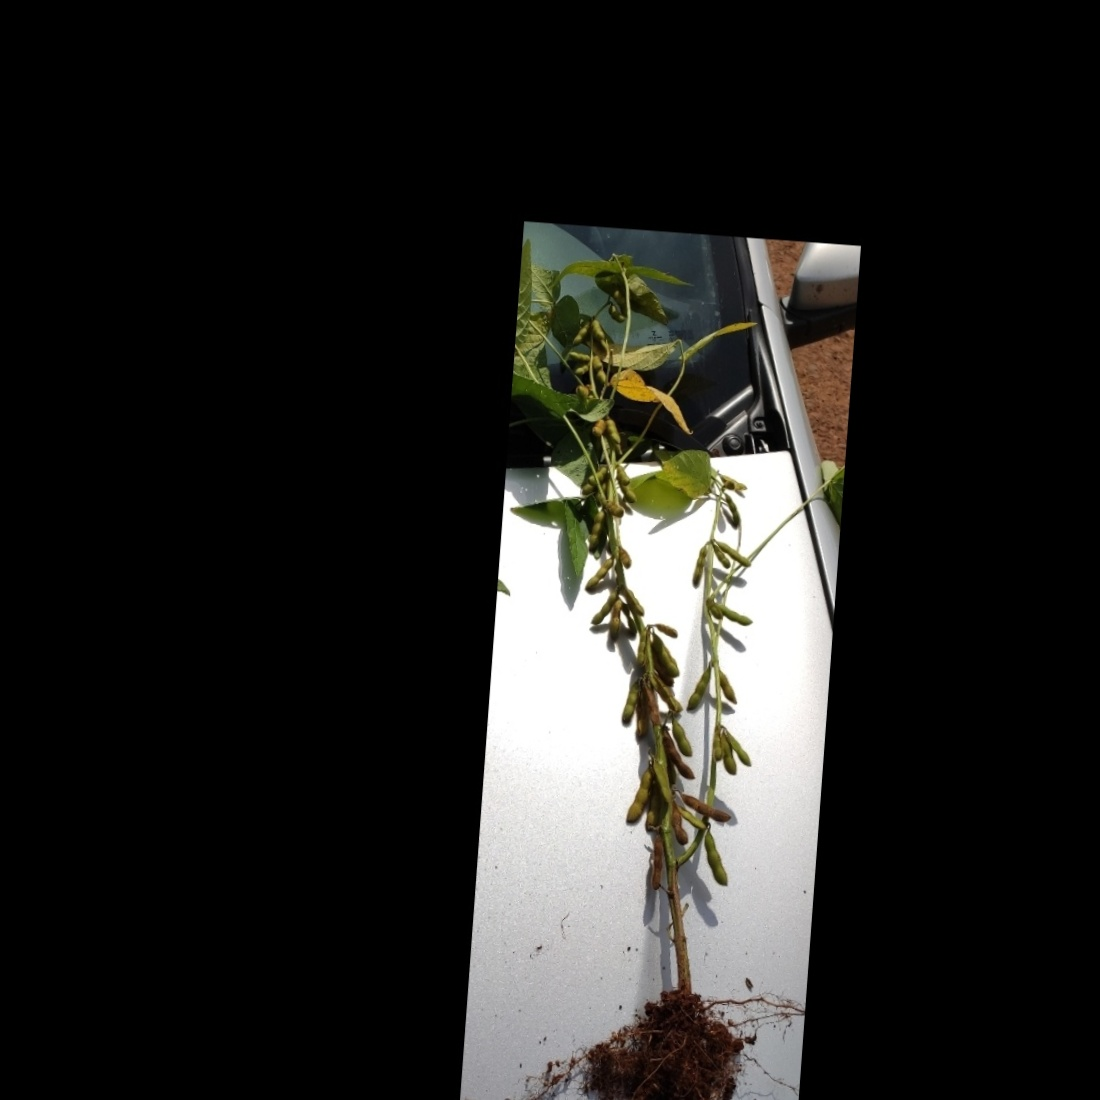pod: (673, 788, 741, 829), (700, 822, 734, 890), (623, 762, 654, 834), (715, 723, 758, 773), (684, 659, 717, 718), (663, 708, 701, 760), (615, 674, 643, 737), (580, 548, 614, 597), (643, 835, 669, 896), (710, 538, 757, 569), (664, 805, 711, 835), (689, 537, 710, 594), (588, 591, 618, 631), (715, 602, 757, 631), (598, 497, 634, 521), (606, 594, 624, 643), (600, 411, 625, 445)
soy: (461, 236, 861, 1100)
